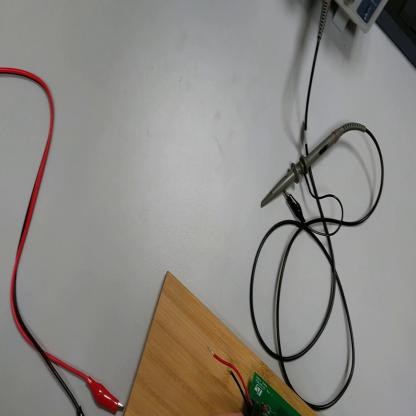high voltage board: (207, 347, 300, 416)
oscilloscope: (325, 2, 387, 34)
oscilloscope probe tip: (261, 126, 349, 209)
working area: (124, 269, 317, 416)
